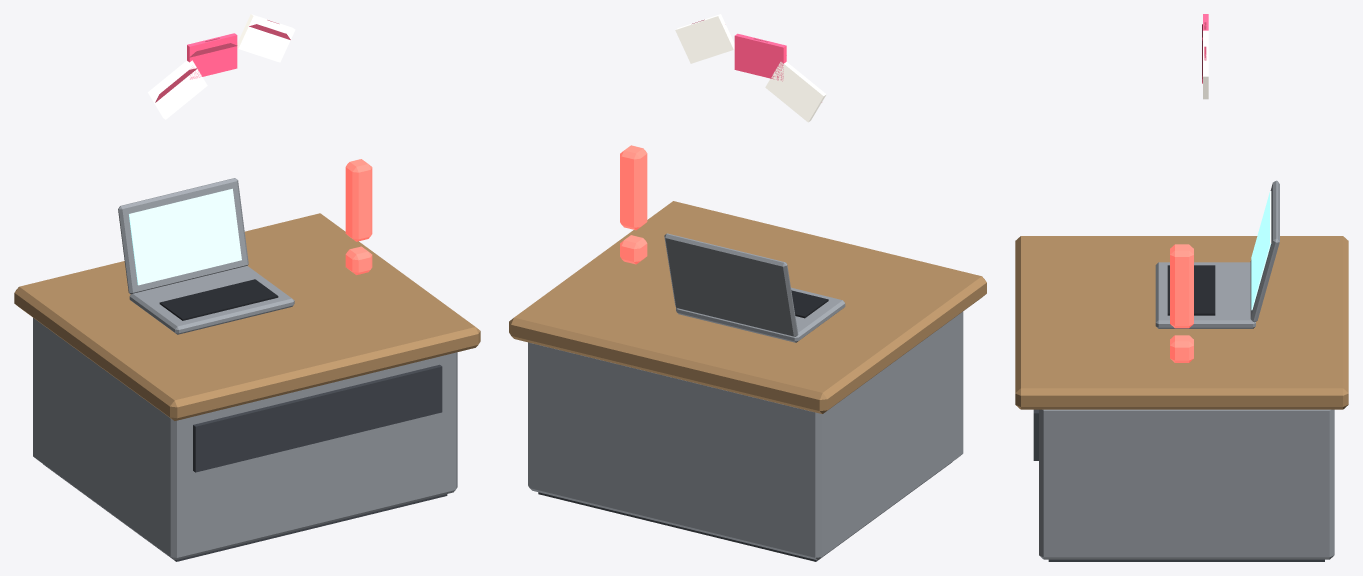
The model's file is replyall_p0_3.glb.
The picture shows the model from 3 angles, left to right: view 1: azimuth 30°, elevation 25°; view 2: azimuth 150°, elevation 25°; view 3: azimuth 270°, elevation 25°; orthographic projection. The views are drawn at different scales.
Parts seen in each view (by area): view 1: replyall_p0_3_mesh_Desk, replyall_p0_3_mesh; view 2: replyall_p0_3_mesh_Desk, replyall_p0_3_mesh; view 3: replyall_p0_3_mesh_Desk, replyall_p0_3_mesh.
Part boxes in pixels (x1=…): replyall_p0_3_mesh_Desk: x1=14, y1=213, x2=480, y2=561; replyall_p0_3_mesh: x1=118, y1=14, x2=372, y2=334; replyall_p0_3_mesh_Desk: x1=509, y1=201, x2=986, y2=561; replyall_p0_3_mesh: x1=620, y1=14, x2=845, y2=342; replyall_p0_3_mesh_Desk: x1=1015, y1=236, x2=1348, y2=561; replyall_p0_3_mesh: x1=1155, y1=14, x2=1279, y2=362.
Size of the model in its own units: 0.78 by 1.09 by 0.7.
